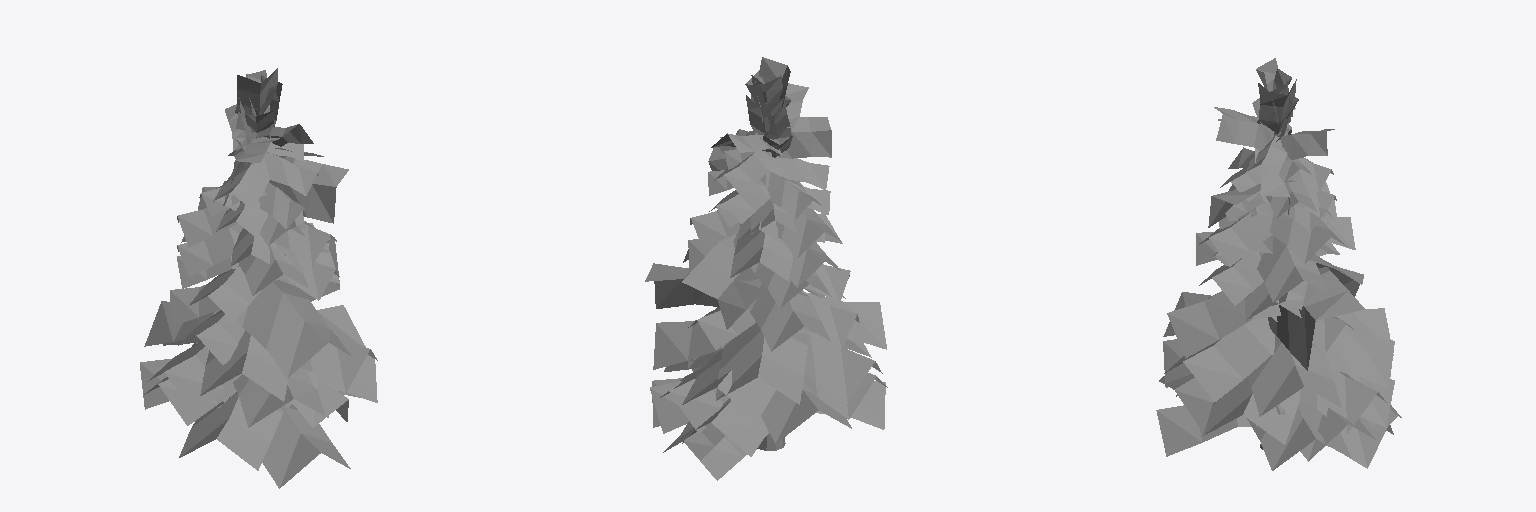
The model's file is tree.obj.
3 renders of one model, left to right at view 1: azimuth 30°, elevation 25°; view 2: azimuth 150°, elevation 25°; view 3: azimuth 270°, elevation 25°, orthographic.
Visible parts, largest first — view 1: Pinetree_land_Mesh.001; view 2: Pinetree_land_Mesh.001; view 3: Pinetree_land_Mesh.001.
Boxes of the visible parts, <box> form: Pinetree_land_Mesh.001: <box>140,68,377,488</box>; Pinetree_land_Mesh.001: <box>645,57,887,480</box>; Pinetree_land_Mesh.001: <box>1156,58,1401,470</box>.
Bounding box in the file's own units: 0.2558 × 0.4487 × 0.2647.